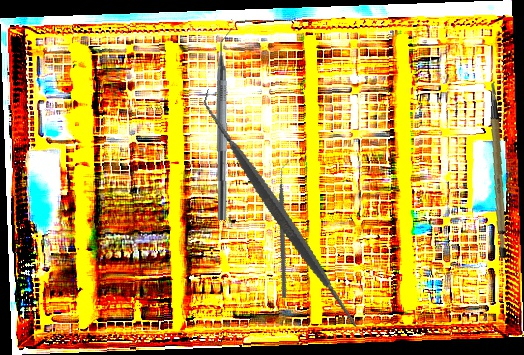Chopper: (221, 160, 352, 299), (213, 27, 241, 220)
Scalpel Handle: (475, 79, 524, 260)
Spatula Surgical: (152, 89, 408, 339)
